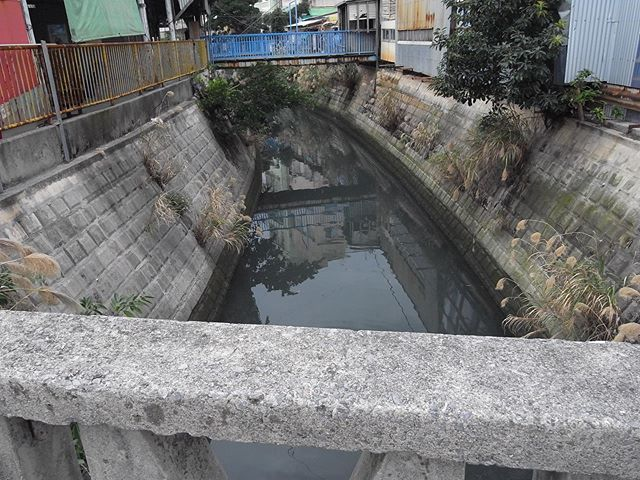bridge: (208, 19, 387, 97)
river: (195, 84, 483, 460)
vegetation: (440, 1, 587, 149)
